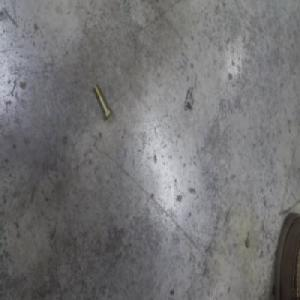Bolt: (92, 81, 111, 121)
